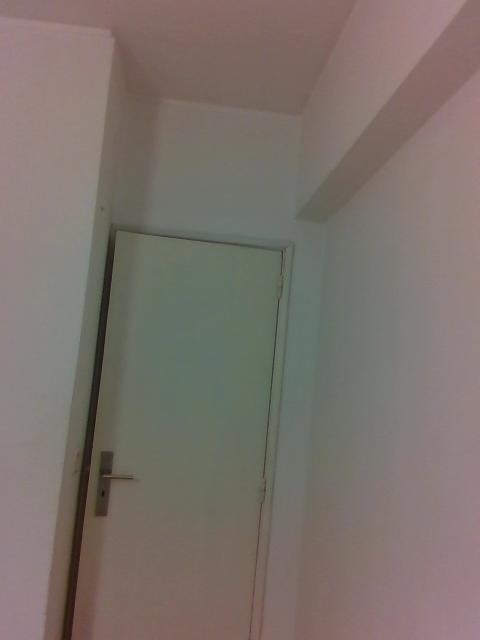door: (70, 229, 283, 640)
